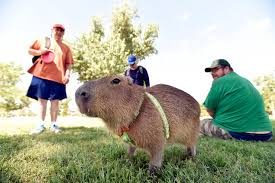capivara: (75, 73, 202, 177)
